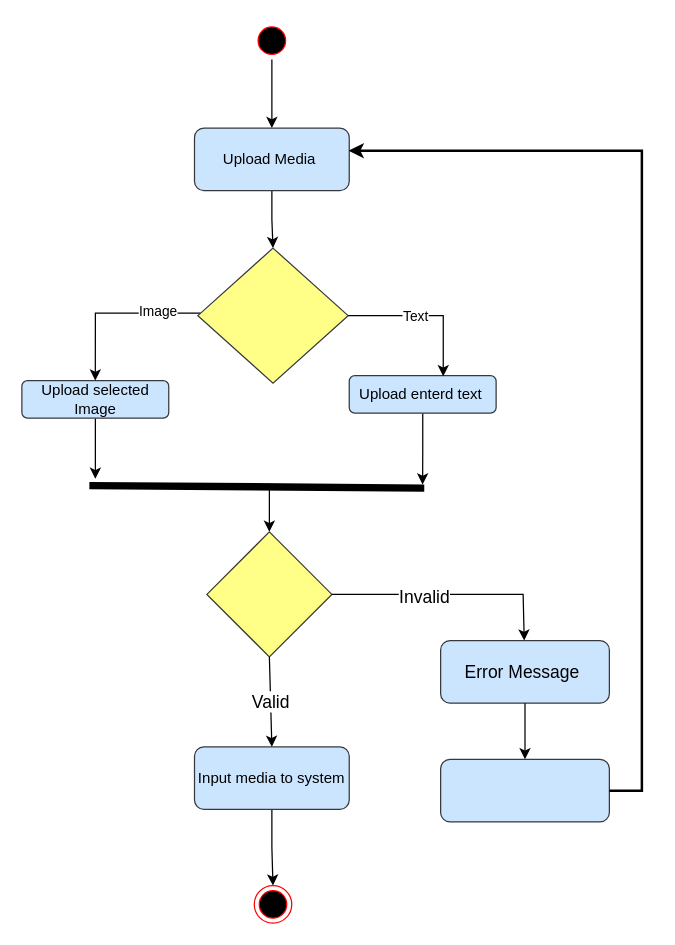
This 675x945 diagram has some shape labels left out. Here are the shapes that lost their labels. From the top down, the box of each, then its label:
(197, 247, 348, 383): check media type
(206, 531, 332, 657): Validate Media
(439, 758, 609, 822): Clear Fields
